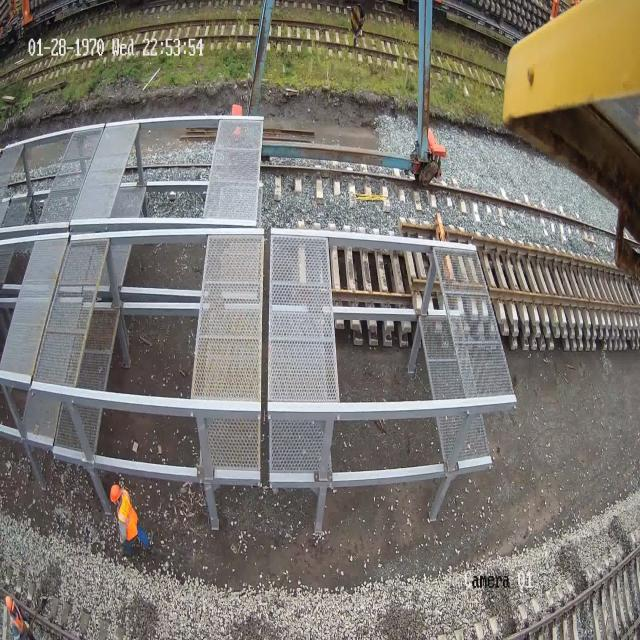Helmet: (110, 483, 120, 502)
Person: (110, 482, 154, 558)
